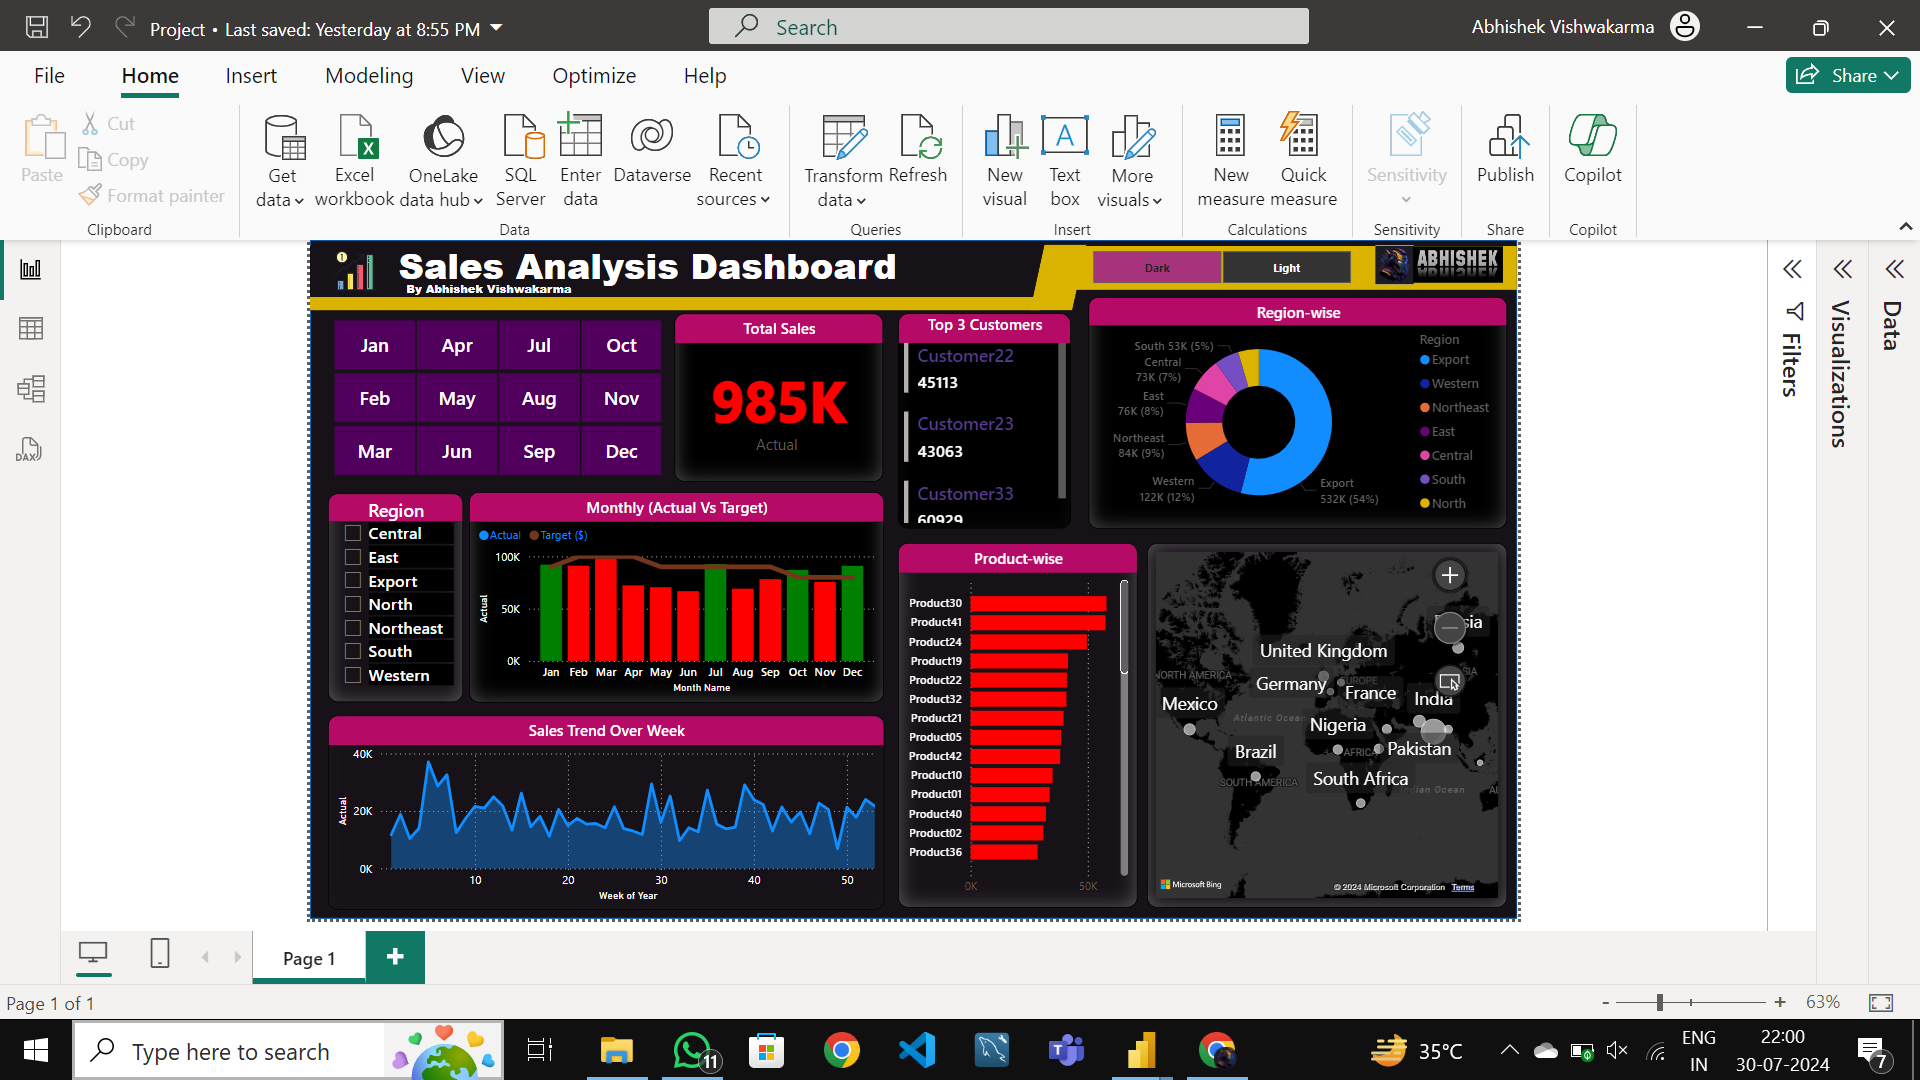

The dashboard page shown, as its layout file describes it:
{"tool":"powerbi","page":{"name":"Page 1","canvas":[1280,720],"ordinal":0},"visuals":[{"type":"shape","box":[0,63.6,806.4,11.1],"z":0},{"type":"shape","box":[0,0,1280.3,719.7],"z":1000},{"type":"shape","box":[807,5.6,473.2,46.5],"z":2000},{"type":"shape","box":[0,6.4,793.7,55.7],"z":3000},{"type":"slicer","fields":{"Values":["InputData.Month Name "]},"box":[0,78.5,396.9,178.5],"z":4000},{"type":"card","title":"Total Sales ","fields":{"Values":["Sum(InputData.Actual )"]},"box":[386.9,78.7,221.3,178.7],"z":5000},{"type":"slicer","title":"Region","fields":{"Values":["Country.Region"]},"box":[18.5,269.2,143.1,221.5],"z":6000},{"type":"lineStackedColumnComboChart","title":"Monthly (Actual Vs Target)","fields":{"Category":["TargetData.Month Name"],"Y":["Sum(InputData.Actual )"],"Y2":["Sum(TargetData.Target ($))"]},"box":[169.2,267.7,440,223.1],"z":7000},{"type":"stackedAreaChart","title":"Sales Trend Over Week","fields":{"Category":["InputData.Week of Year"],"Y":["Sum(InputData.Actual )"]},"box":[18.5,504,590,206.2],"z":8000},{"type":"multiRowCard","title":"Top 3 Customers","fields":{"Values":["Country.Customer Name","Sum(InputData.Actual )"]},"box":[623,78.7,183.6,227.9],"z":9000},{"type":"clusteredBarChart","title":"Product-wise","fields":{"Category":["InputData.PRODUCT"],"Y":["Sum(InputData.Actual )"]},"box":[623,321.3,254.1,386.9],"z":10000},{"type":"donutChart","title":"Region-wise","fields":{"Category":["Country.Region"],"Y":["Sum(InputData.Actual )"]},"box":[826.2,60.7,444.3,245.9],"z":11000},{"type":"map","fields":{"Category":["Country.Country"],"Size":["Sum(InputData.Actual )"]},"box":[886.9,321.3,382,386.9],"z":12000},{"type":"shape","box":[0,60.8,773.3,14.2],"z":13000},{"type":"shape","box":[763.3,5,60,70],"z":14000},{"type":"textbox","box":[0,0,734.3,71],"z":15000},{"type":"textbox","box":[97.1,40,300,21],"z":16000},{"type":"image","box":[0,0,96.2,67.5],"z":17000},{"type":"image","box":[1114.4,0,70,52.2],"z":18000},{"type":"image","box":[1164.4,0,105.6,52.2],"z":19000},{"type":"slicer","fields":{"Values":["Themes.Theme"]},"box":[805.6,4.2,322.5,47.9],"z":20000}]}

Visuals, with their boxes on the page's 1280x720 design canvas (x1, y1, x2, y2). These are canvas units, not pixel positions in the 1920x1080 screenshot, which may show the page scaled, cropped or inside an application window:
shape: (x1=0, y1=64, x2=806, y2=75)
shape: (x1=0, y1=0, x2=1280, y2=720)
shape: (x1=807, y1=6, x2=1280, y2=52)
shape: (x1=0, y1=6, x2=794, y2=62)
slicer - InputData.Month Name : (x1=0, y1=78, x2=397, y2=257)
"Total Sales " card: (x1=387, y1=79, x2=608, y2=257)
"Region" slicer: (x1=18, y1=269, x2=162, y2=491)
"Monthly (Actual Vs Target)" lineStackedColumnComboChart: (x1=169, y1=268, x2=609, y2=491)
"Sales Trend Over Week" stackedAreaChart: (x1=18, y1=504, x2=608, y2=710)
"Top 3 Customers" multiRowCard: (x1=623, y1=79, x2=807, y2=307)
"Product-wise" clusteredBarChart: (x1=623, y1=321, x2=877, y2=708)
"Region-wise" donutChart: (x1=826, y1=61, x2=1270, y2=307)
map - Country.Country x Sum(InputData.Actual ): (x1=887, y1=321, x2=1269, y2=708)
shape: (x1=0, y1=61, x2=773, y2=75)
shape: (x1=763, y1=5, x2=823, y2=75)
textbox: (x1=0, y1=0, x2=734, y2=71)
textbox: (x1=97, y1=40, x2=397, y2=61)
image: (x1=0, y1=0, x2=96, y2=68)
image: (x1=1114, y1=0, x2=1184, y2=52)
image: (x1=1164, y1=0, x2=1270, y2=52)
slicer - Themes.Theme: (x1=806, y1=4, x2=1128, y2=52)
